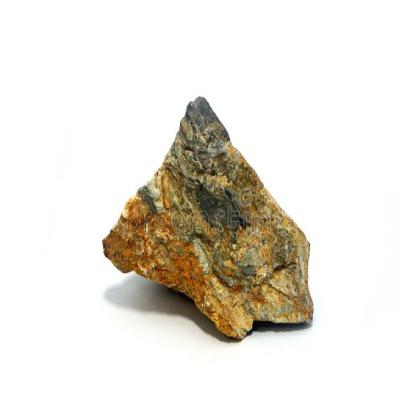Sedimentary_Limestone: (97, 83, 327, 351)
